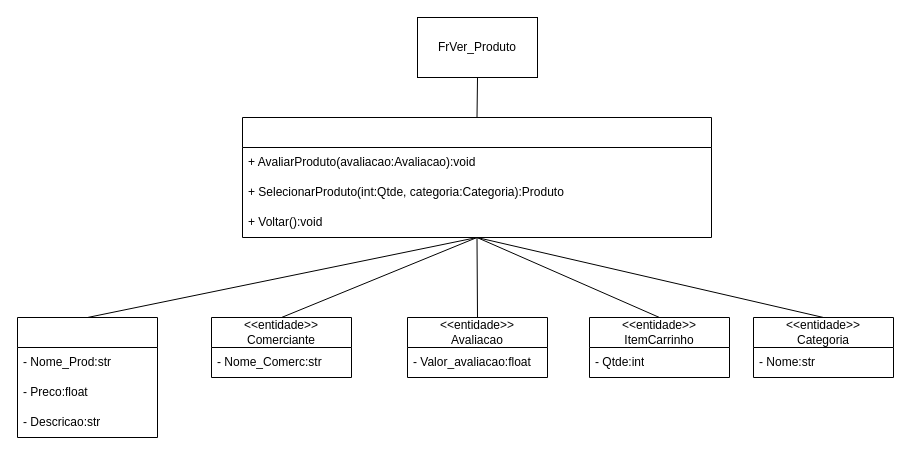
The diagram is 911 pixels wide and 455 high, and some of its shapes have lost their labels. The shapes that lost their labels are listed below. From the top down, each one's box as (x1, y1, x2, y2) in pixels, then its label:
(242, 116, 712, 238): CtrlVer_Produto
(16, 316, 158, 438): <<entidade>> Produto
